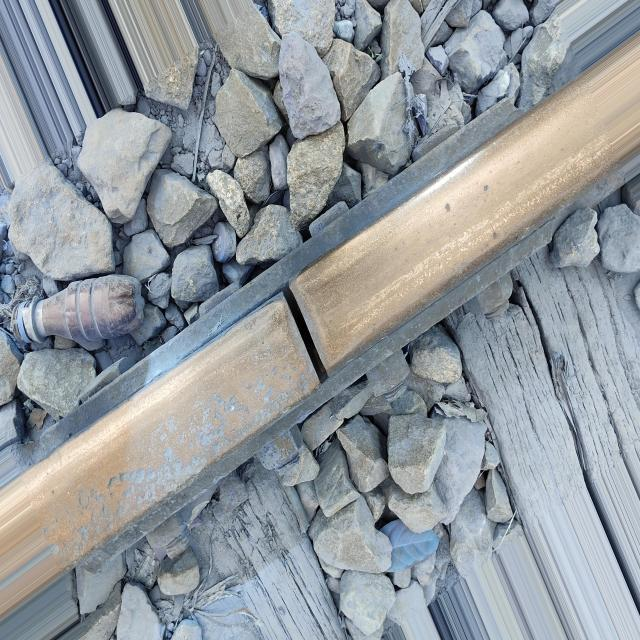Good Joint: (23, 80, 624, 566)
